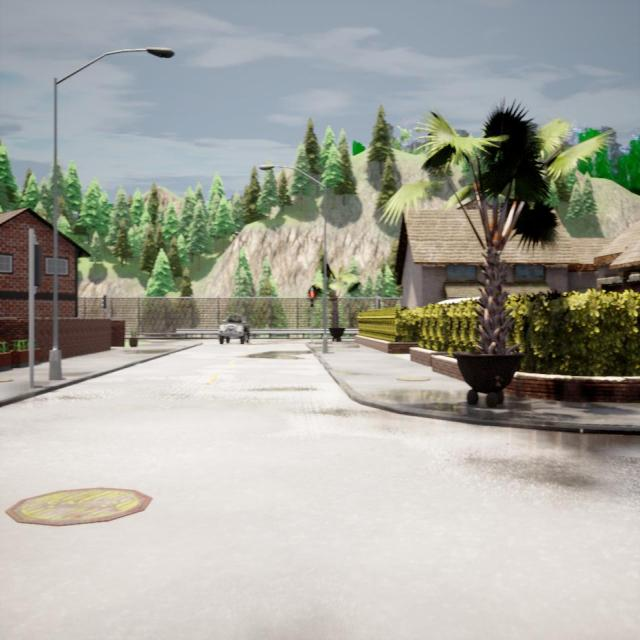Vehicle: (219, 312, 249, 343)
traffic_light: (33, 245, 41, 286), (310, 292, 314, 307), (102, 296, 106, 308), (378, 299, 380, 309)
